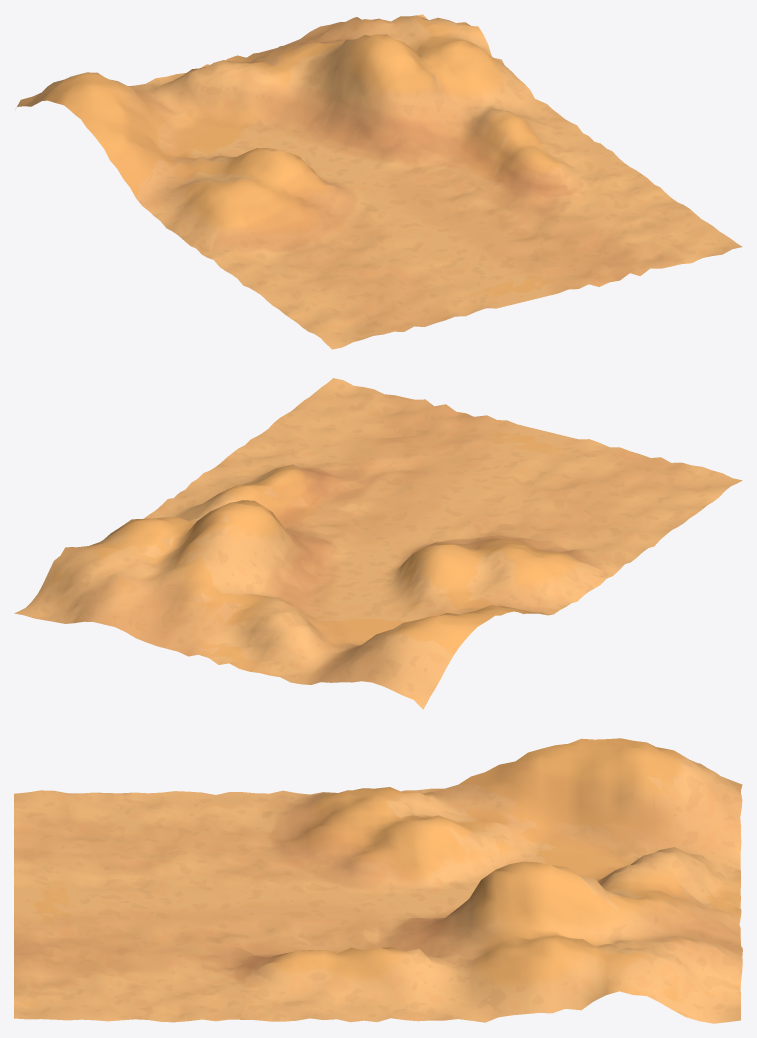
The model's file is terrain.fbx.
The picture shows the model from 3 angles, top to bottom: view 1: azimuth 30°, elevation 25°; view 2: azimuth 150°, elevation 25°; view 3: azimuth 270°, elevation 25°; orthographic projection. The views are drawn at different scales.
Parts seen in each view (by area): view 1: Terrain; view 2: Terrain; view 3: Terrain.
Boxes of the visible parts, left/top/right/bottom form: Terrain: left=16, top=14, right=742, bottom=349; Terrain: left=14, top=378, right=742, bottom=709; Terrain: left=14, top=738, right=742, bottom=1023.
Bounding box in the file's own units: 20436 × 3631 × 27417.
1 material, 1 textured.
